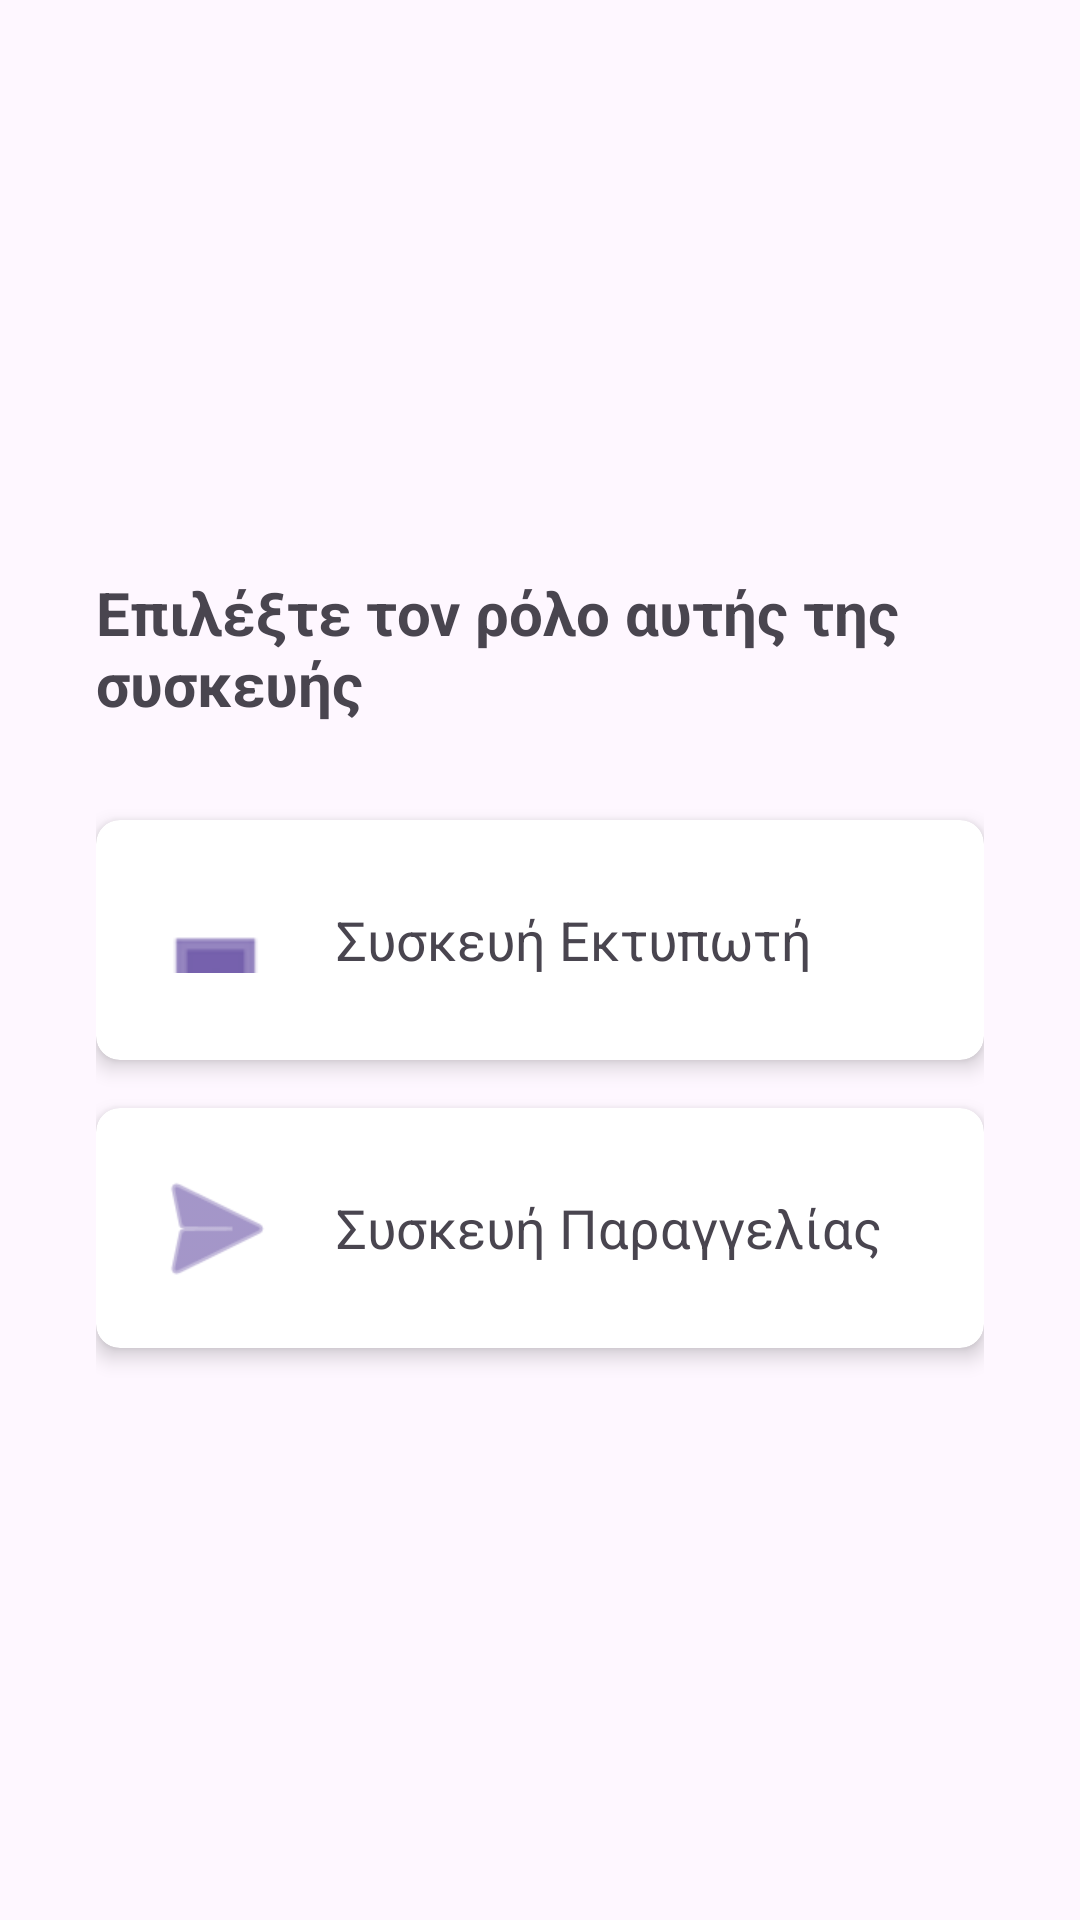

Icons on this 1080x1920 Android screen, each with its box as (x1, y1, x2, y2):
send: (171, 1183, 263, 1274)
